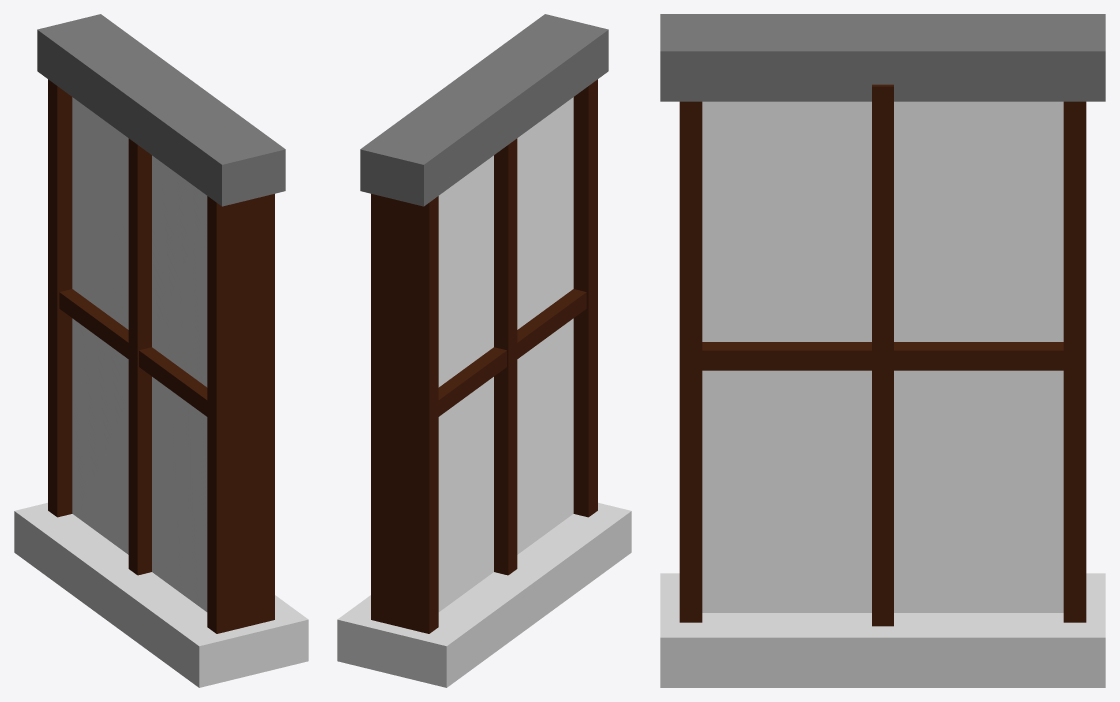
File: Window.fbx
3 renders of one model, left to right at view 1: azimuth 30°, elevation 25°; view 2: azimuth 150°, elevation 25°; view 3: azimuth 270°, elevation 25°, orthographic. The views are drawn at different scales.
Visible parts, largest first — view 1: Plane.001, Cube.006, Cube.005, Cube.001, Cube.003, Cube.004; view 2: Plane.001, Cube.006, Cube.005, Cube.001, Cube.003, Cube.004; view 3: Plane, Cube.005, Cube.001, Cube.006, Cube.003, Cube.004.
Part boxes in pixels (x1,y1,x2,y2): Plane.001: [72, 97, 207, 611]; Cube.006: [48, 79, 274, 633]; Cube.005: [37, 14, 285, 206]; Cube.001: [14, 502, 308, 687]; Cube.003: [128, 138, 151, 575]; Cube.004: [59, 289, 207, 416]; Plane.001: [438, 97, 573, 611]; Cube.006: [371, 79, 597, 633]; Cube.005: [360, 14, 608, 206]; Cube.001: [337, 502, 631, 687]; Cube.003: [494, 138, 517, 575]; Cube.004: [438, 289, 586, 416]; Plane: [702, 101, 1063, 612]; Cube.005: [660, 14, 1105, 101]; Cube.001: [660, 573, 1105, 687]; Cube.006: [679, 101, 1086, 622]; Cube.003: [872, 84, 893, 626]; Cube.004: [702, 342, 1063, 370].
Size of the model in its own units: 94.83 by 428 by 277.
